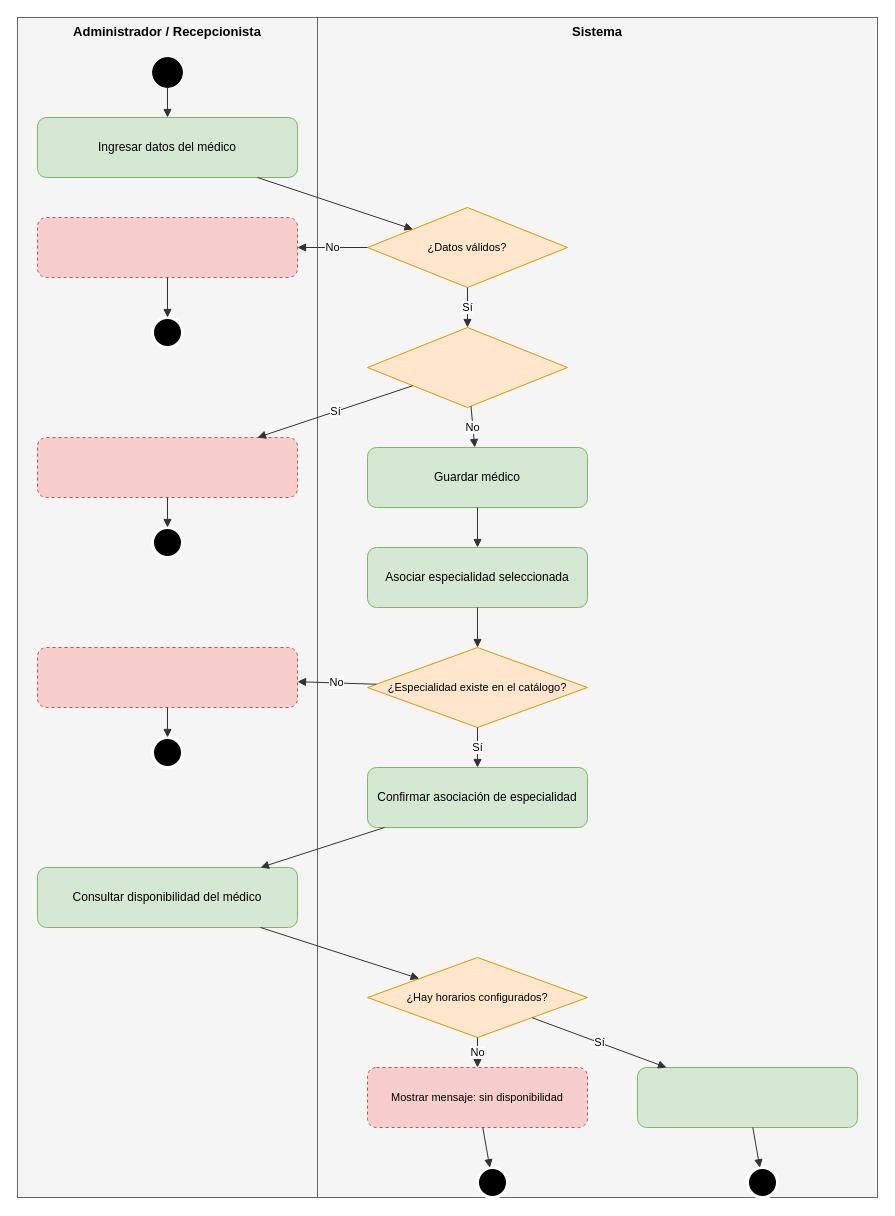
This 895x1216 diagram has some shape labels left out. Each missing label, with the centre of its shape:
Mostrar excepción: colegiado duplicado: the point at 167,467
Mostrar excepción: datos incompletos o erróneos: the point at 167,247
Mostrar excepción: especialidad inexistente: the point at 167,677
Mostrar horarios disponibles: the point at 747,1097
¿Colegiado ya existe?: the point at 467,367
